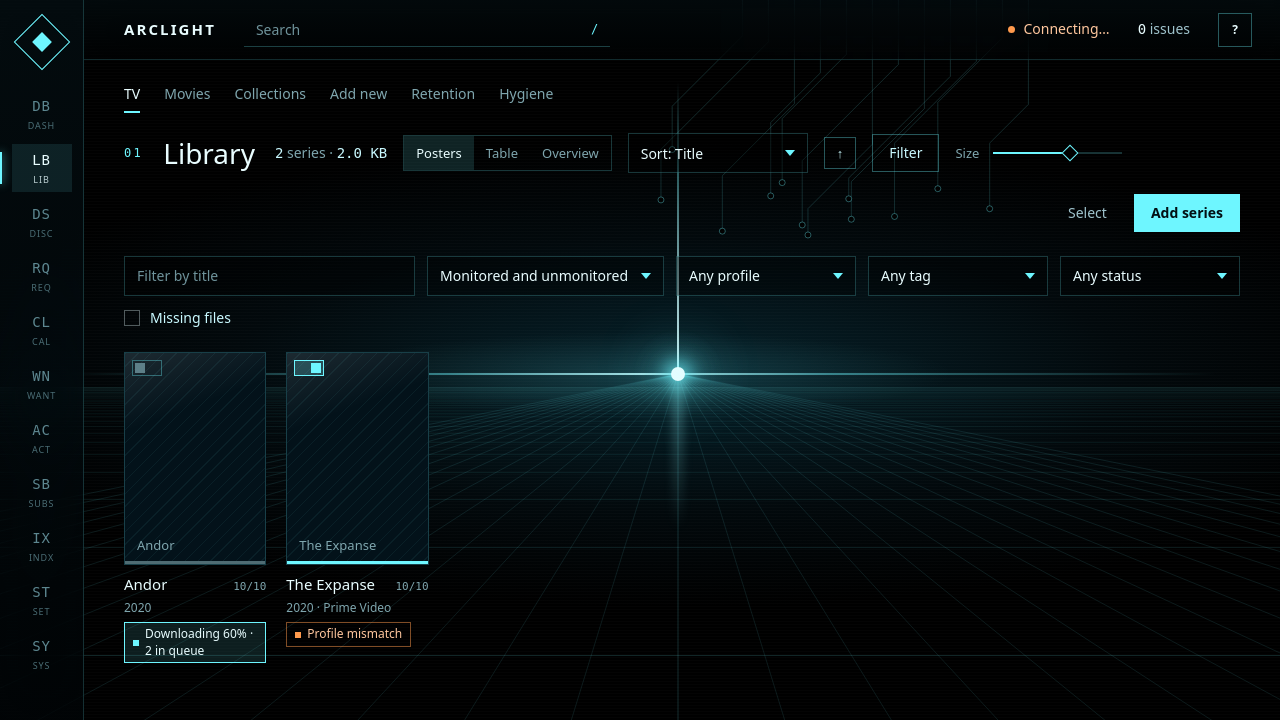
it: library index › filters by monitored state and switches to the table view
Expected: the element with test id "library-grid" is shown, x1=124 y1=352 x2=429 y2=663
Select "Unmonitored" in the dropdown named "Monitored filter" at (546, 276), box x1=427 y1=256 x2=664 y2=296
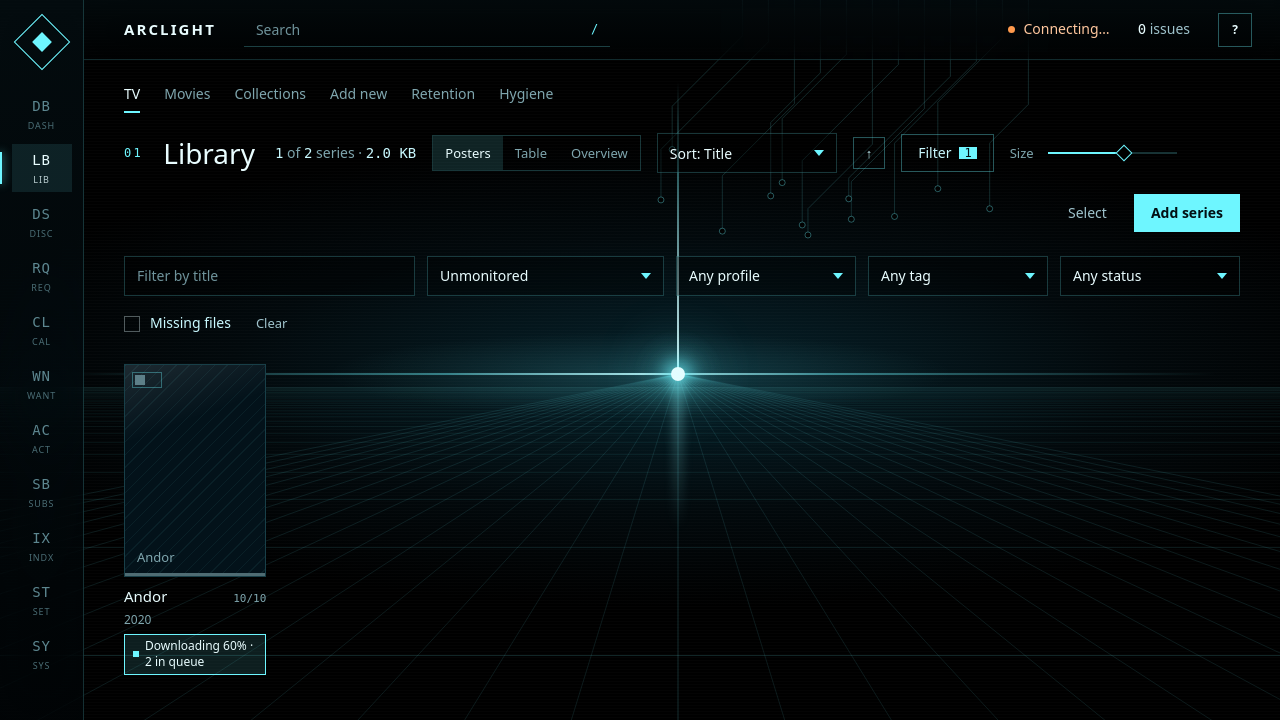
Click the button "Table" at (531, 153), box x1=503 y1=136 x2=559 y2=170
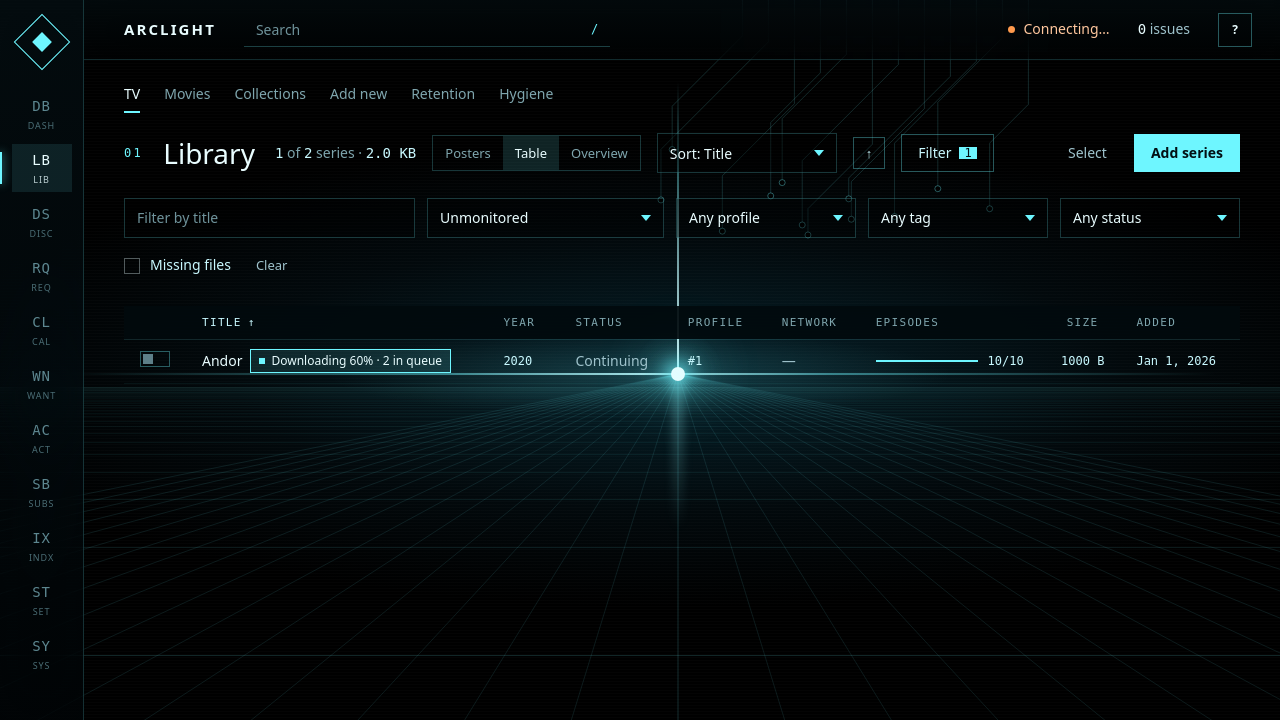
Expected: the link "Andor" is shown, x1=202 y1=351 x2=242 y2=372
Expected: the link "The Expanse" is not shown
// The filter bar shows Clear once a filter is active.
Click the button "Clear" at (272, 266), box x1=243 y1=250 x2=300 y2=282
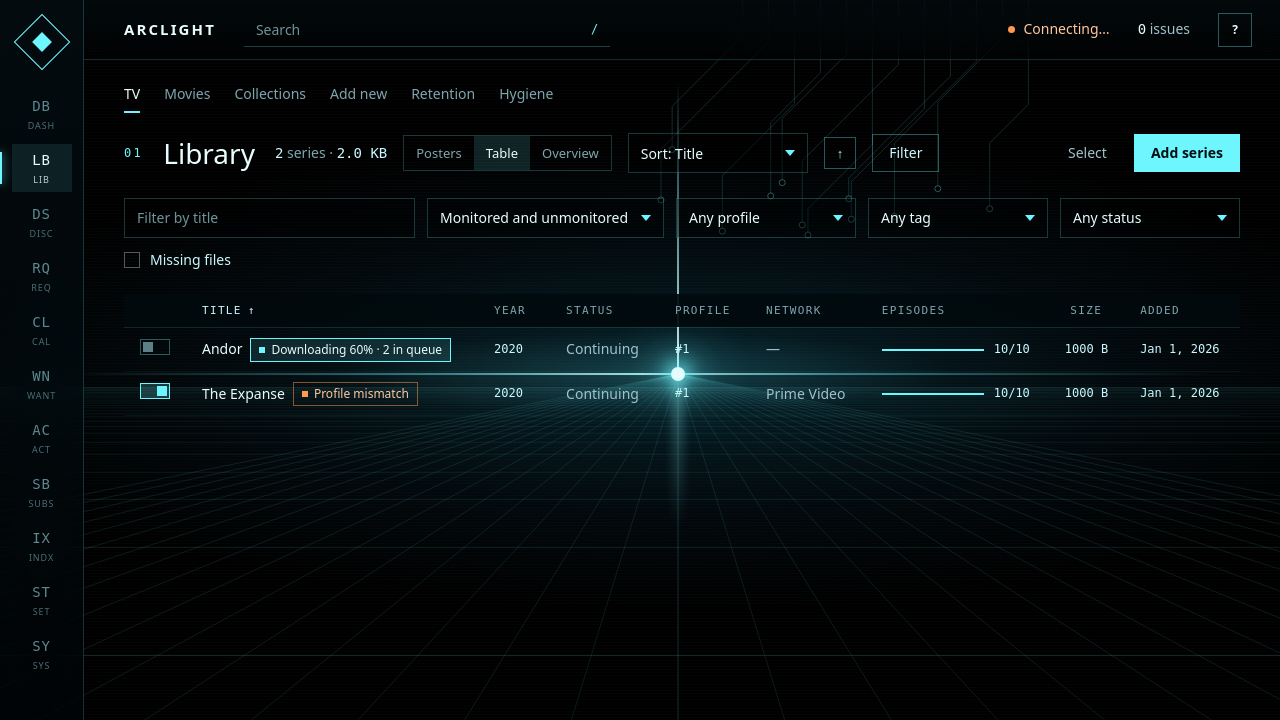
Now the link "The Expanse" is shown, box x1=202 y1=384 x2=285 y2=404
